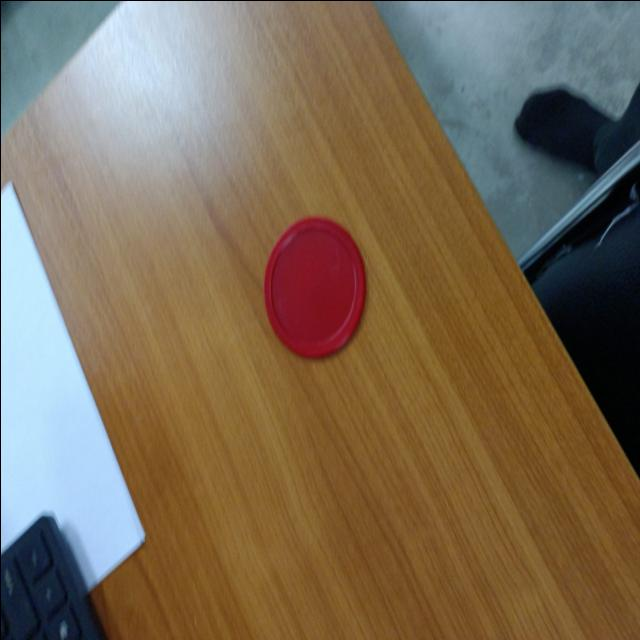chip: (262, 216, 368, 362)
